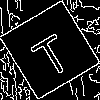T: (25, 25, 75, 80)
